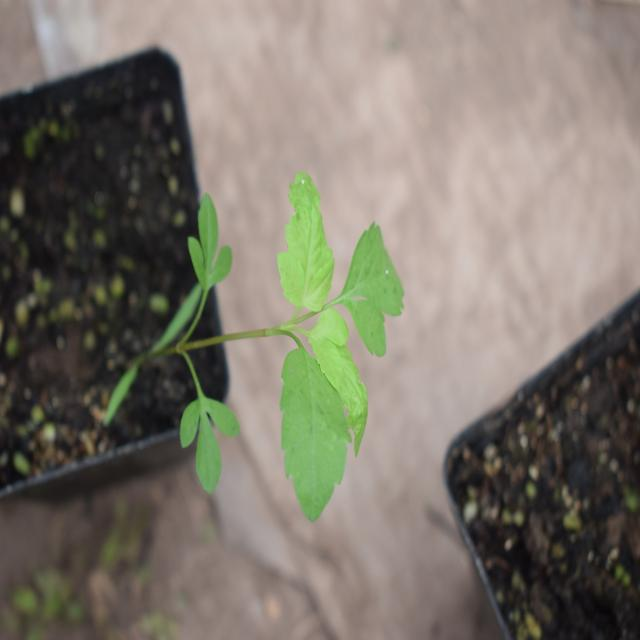Bidens pilosa: (152, 154, 408, 524)
